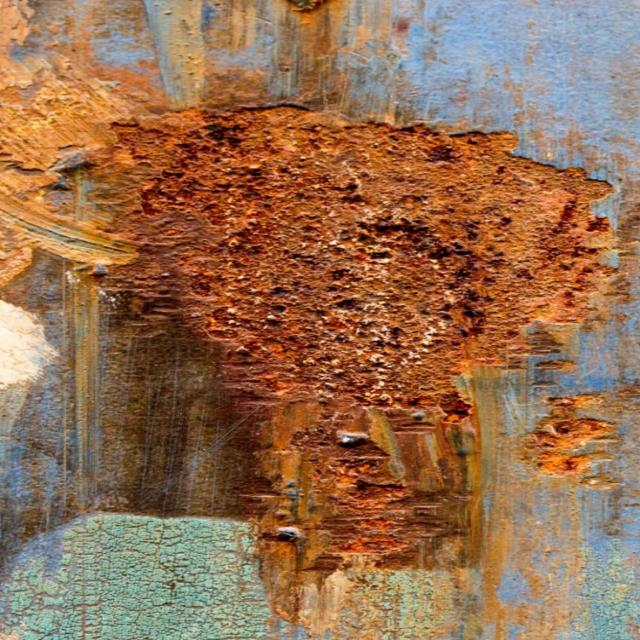Pitting Corrosion: (86, 102, 615, 610)
